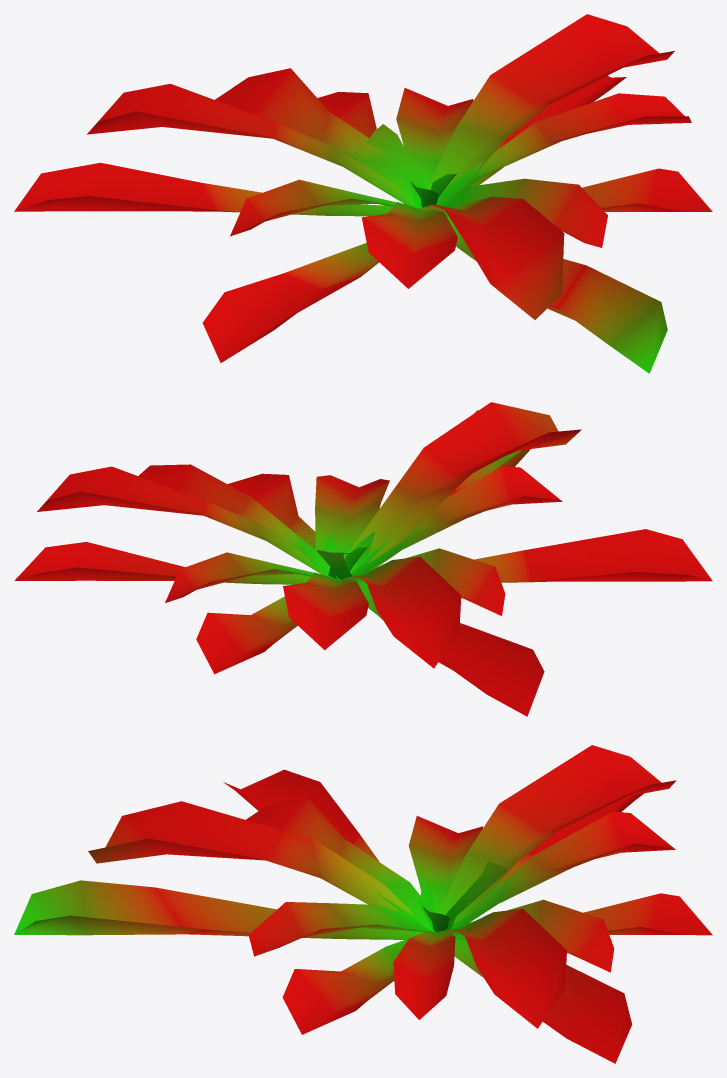
File: Var10_LOD1.fbx
The picture shows the model from 3 angles, top to bottom: view 1: azimuth 30°, elevation 25°; view 2: azimuth 150°, elevation 25°; view 3: azimuth 270°, elevation 25°; orthographic projection. The views are drawn at different scales.
Parts seen in each view (by area): view 1: _icir_Var10_LOD1; view 2: _icir_Var10_LOD1; view 3: _icir_Var10_LOD1.
Boxes of the visible parts, box(x1,y1,x2,y2) form: _icir_Var10_LOD1: box(14, 14, 712, 373); _icir_Var10_LOD1: box(14, 402, 712, 716); _icir_Var10_LOD1: box(14, 745, 712, 1063).
Size of the model in its own units: 31.6 by 5.38 by 33.13.
